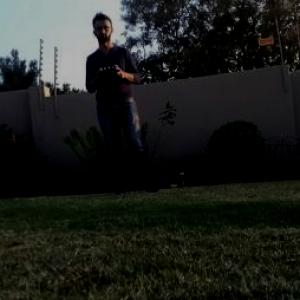follow: (82, 6, 166, 196)
